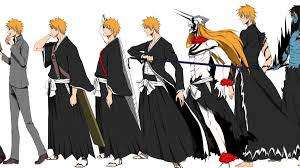Ichigo: (185, 13, 210, 37), (235, 4, 258, 26), (101, 17, 121, 39), (48, 18, 68, 39), (5, 19, 24, 40), (142, 19, 162, 38), (288, 5, 300, 25)
